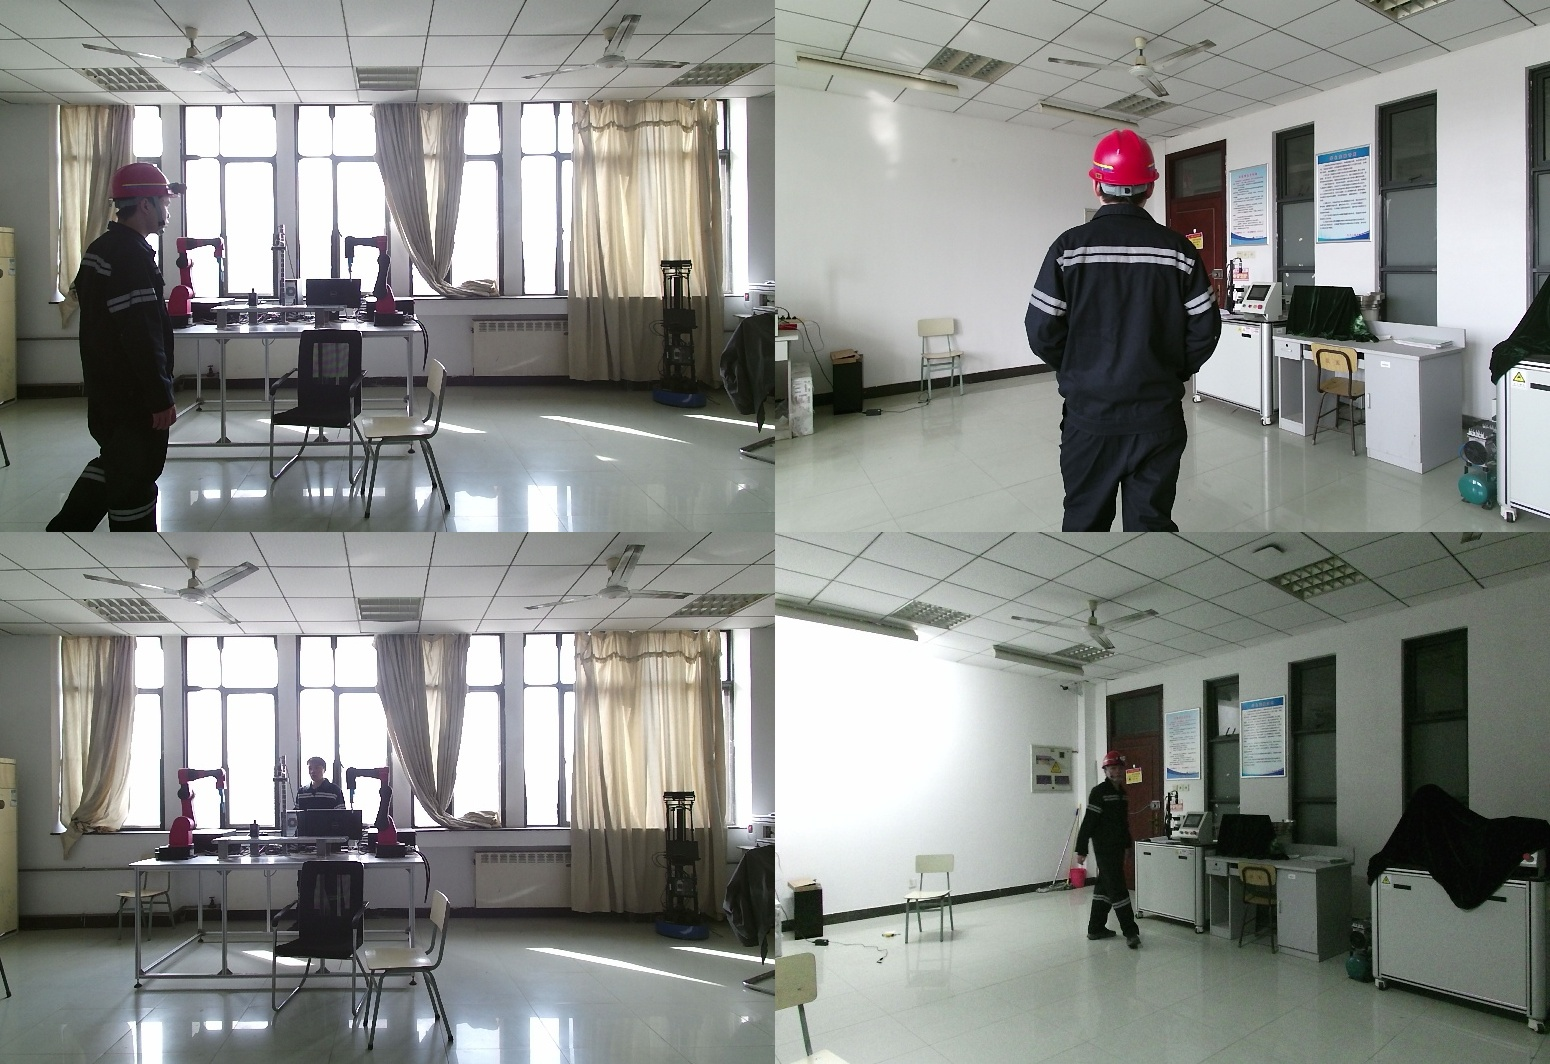person: (1027, 129, 1242, 532), (46, 163, 190, 532), (1075, 752, 1146, 952), (288, 759, 358, 839)
